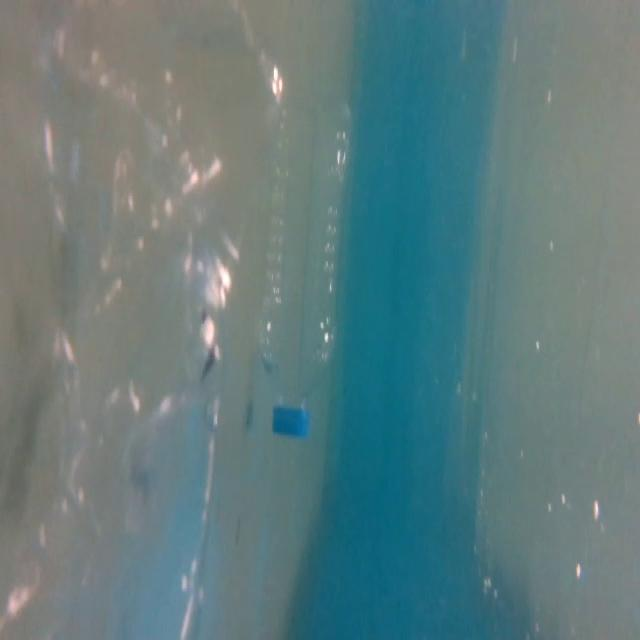plastic bottle: (35, 41, 218, 640), (258, 87, 349, 445)
